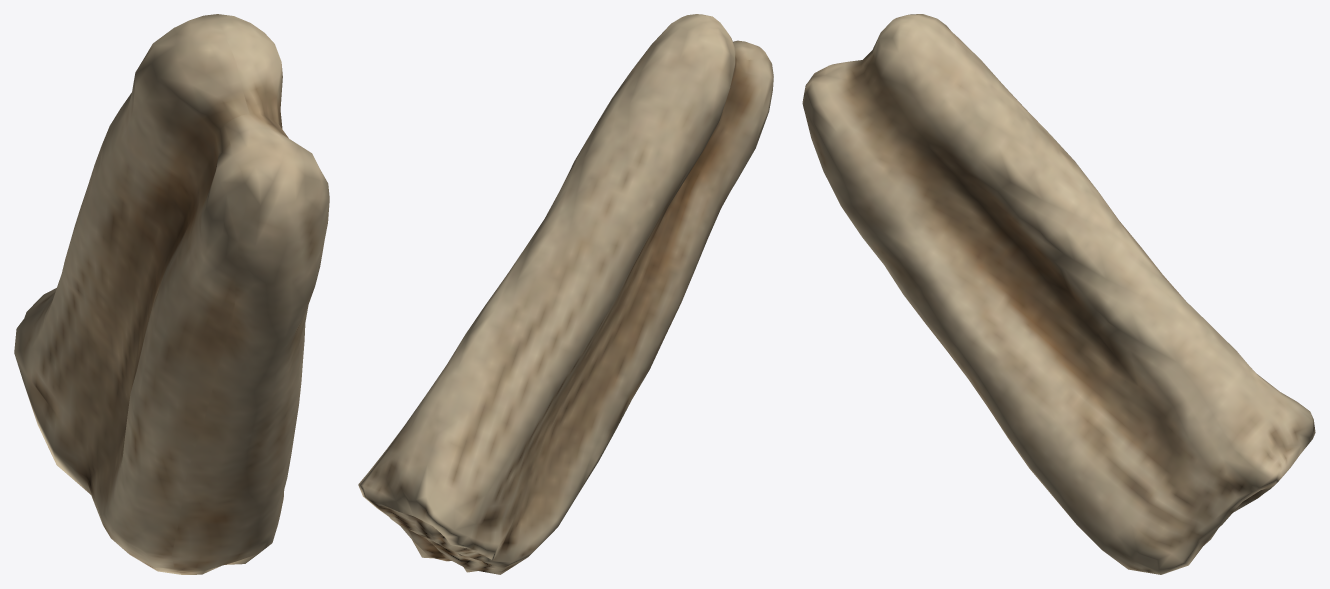
File: Maxilary_Molar5.glb
The picture shows the model from 3 angles, left to right: view 1: azimuth 30°, elevation 25°; view 2: azimuth 150°, elevation 25°; view 3: azimuth 270°, elevation 25°; orthographic projection. The views are drawn at different scales.
Visible parts, largest first — view 1: Maxilary_Molar5.glb; view 2: Maxilary_Molar5.glb; view 3: Maxilary_Molar5.glb.
Boxes of the visible parts, box(x1,y1,x2,y2) form: Maxilary_Molar5.glb: box(14, 14, 329, 574); Maxilary_Molar5.glb: box(358, 14, 773, 574); Maxilary_Molar5.glb: box(802, 14, 1315, 574).
Bounding box in the file's own units: 0.0316 × 0.0717 × 0.0675.
Materials: 1 (1 with a texture image).
